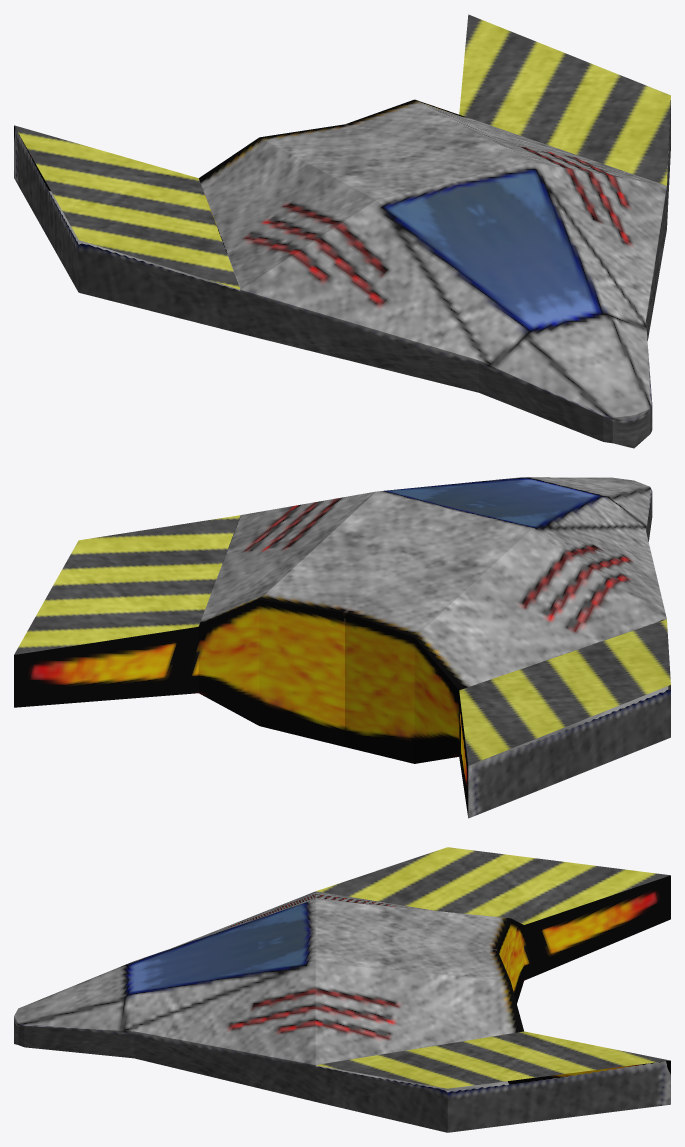
File: shipFlipped.obj
3 views of the same model, one above another, from view 1: azimuth 30°, elevation 25°; view 2: azimuth 150°, elevation 25°; view 3: azimuth 270°, elevation 25° (orthographic). The views are drawn at different scales.
Visible parts, largest first — view 1: cube1; view 2: cube1; view 3: cube1.
Part boxes in pixels (x1=…): cube1: x1=14, y1=14, x2=670, y2=448; cube1: x1=14, y1=477, x2=670, y2=818; cube1: x1=14, y1=847, x2=670, y2=1132.
Size of the model in its own units: 1.3 by 0.3281 by 1.49.
Materials: 1 (1 with a texture image).
